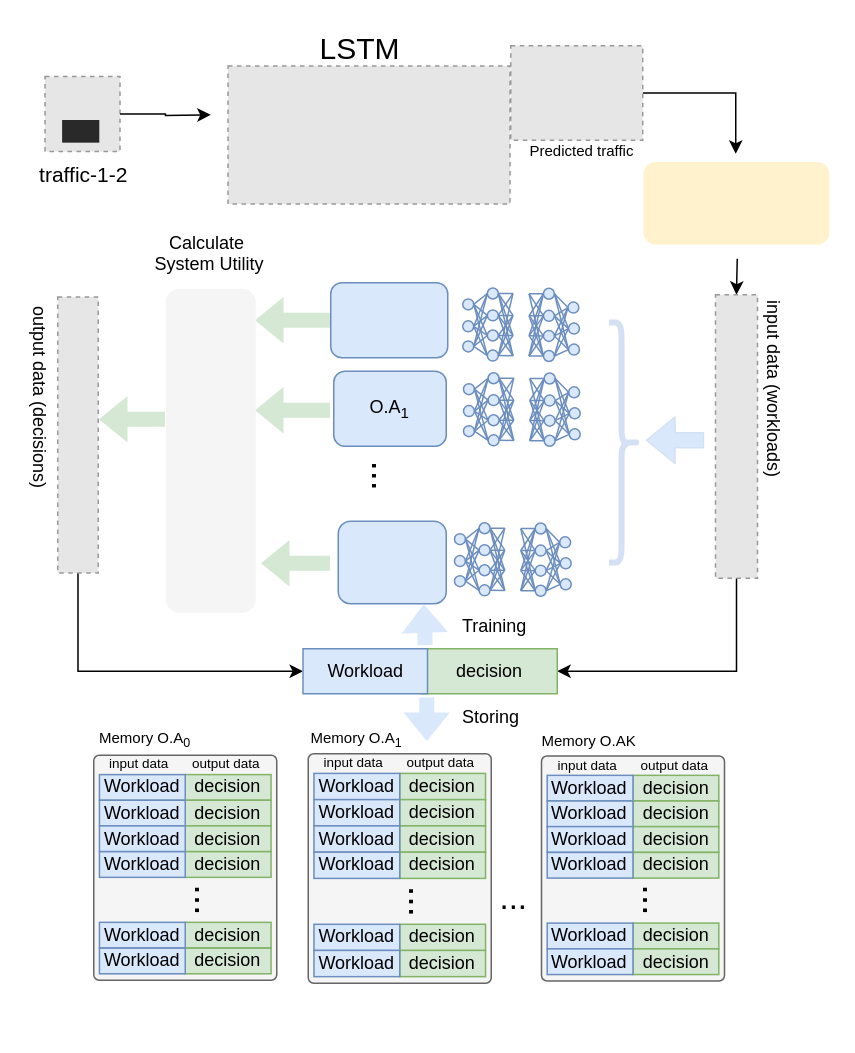
The diagram is 855 pixels wide and 1053 high, and some of its shapes have lost their labels. Grey dashed boxes stand in for pictures. Each missing label, with the centre of its shape:
Creation of data tasks from predicted traffic: point 736,202
min U(w,o,): point 210,450
npy: point 80,130
O.A 0: point 388,319
O.A K: point 391,562
